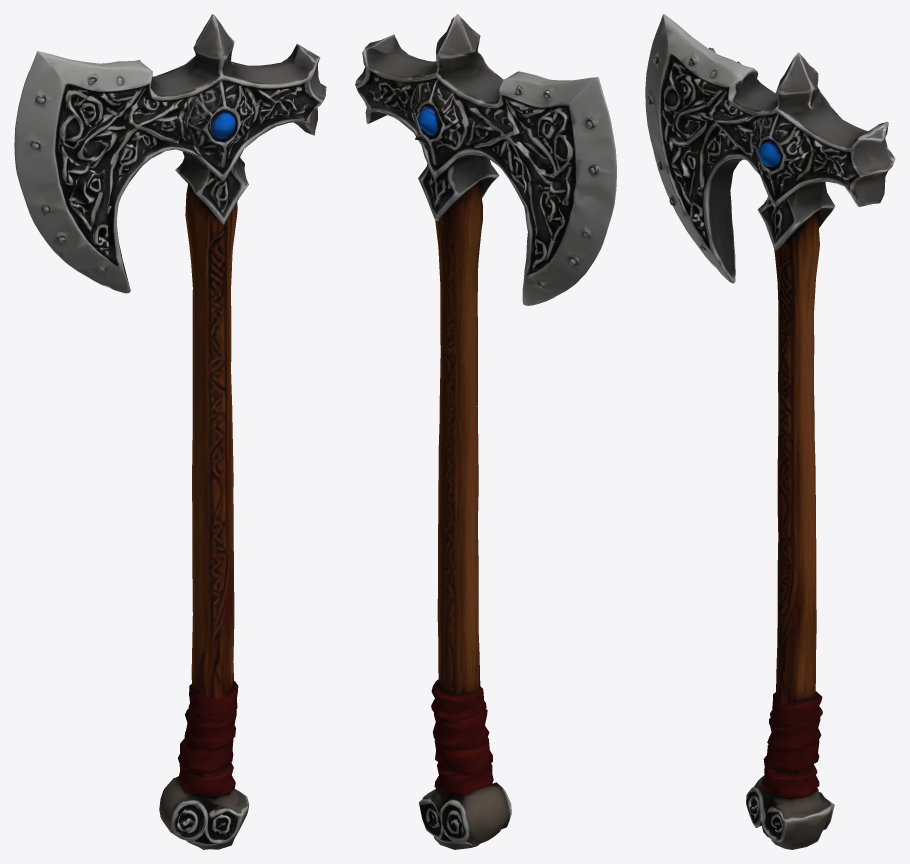
Rendered from battleaxe.fbx.
3 views of the same model, side by side, from view 1: azimuth 30°, elevation 25°; view 2: azimuth 150°, elevation 25°; view 3: azimuth 330°, elevation 25° (orthographic). The views are drawn at different scales.
Visible parts, largest first — view 1: battleaxe_node; view 2: battleaxe_node; view 3: battleaxe_node.
Part boxes in pixels (x1=…): battleaxe_node: x1=14, y1=14, x2=326, y2=849; battleaxe_node: x1=355, y1=14, x2=616, y2=849; battleaxe_node: x1=645, y1=14, x2=895, y2=849.
Size of the model in its own units: 35.69 by 100 by 11.22.
Materials: 1 (1 with a texture image).
